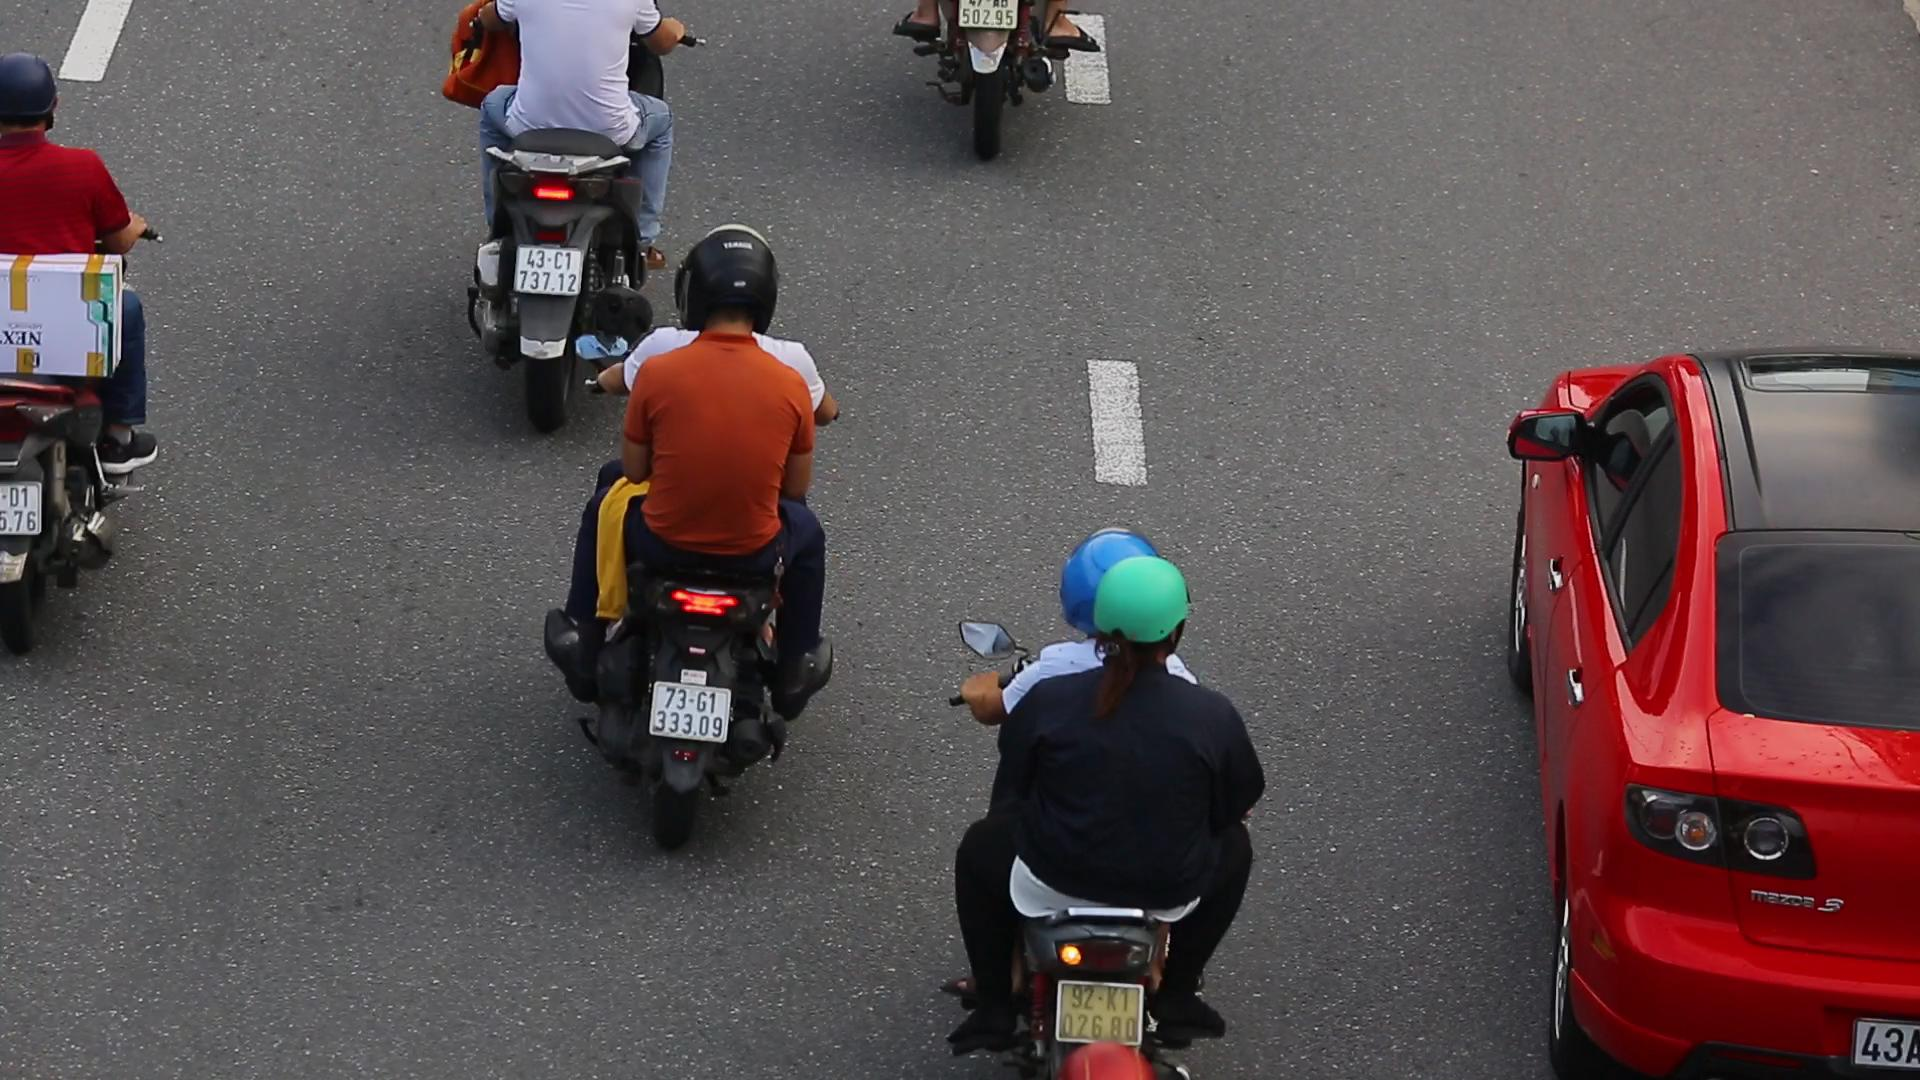motobike: (924, 477, 1309, 1080), (537, 218, 847, 858)
